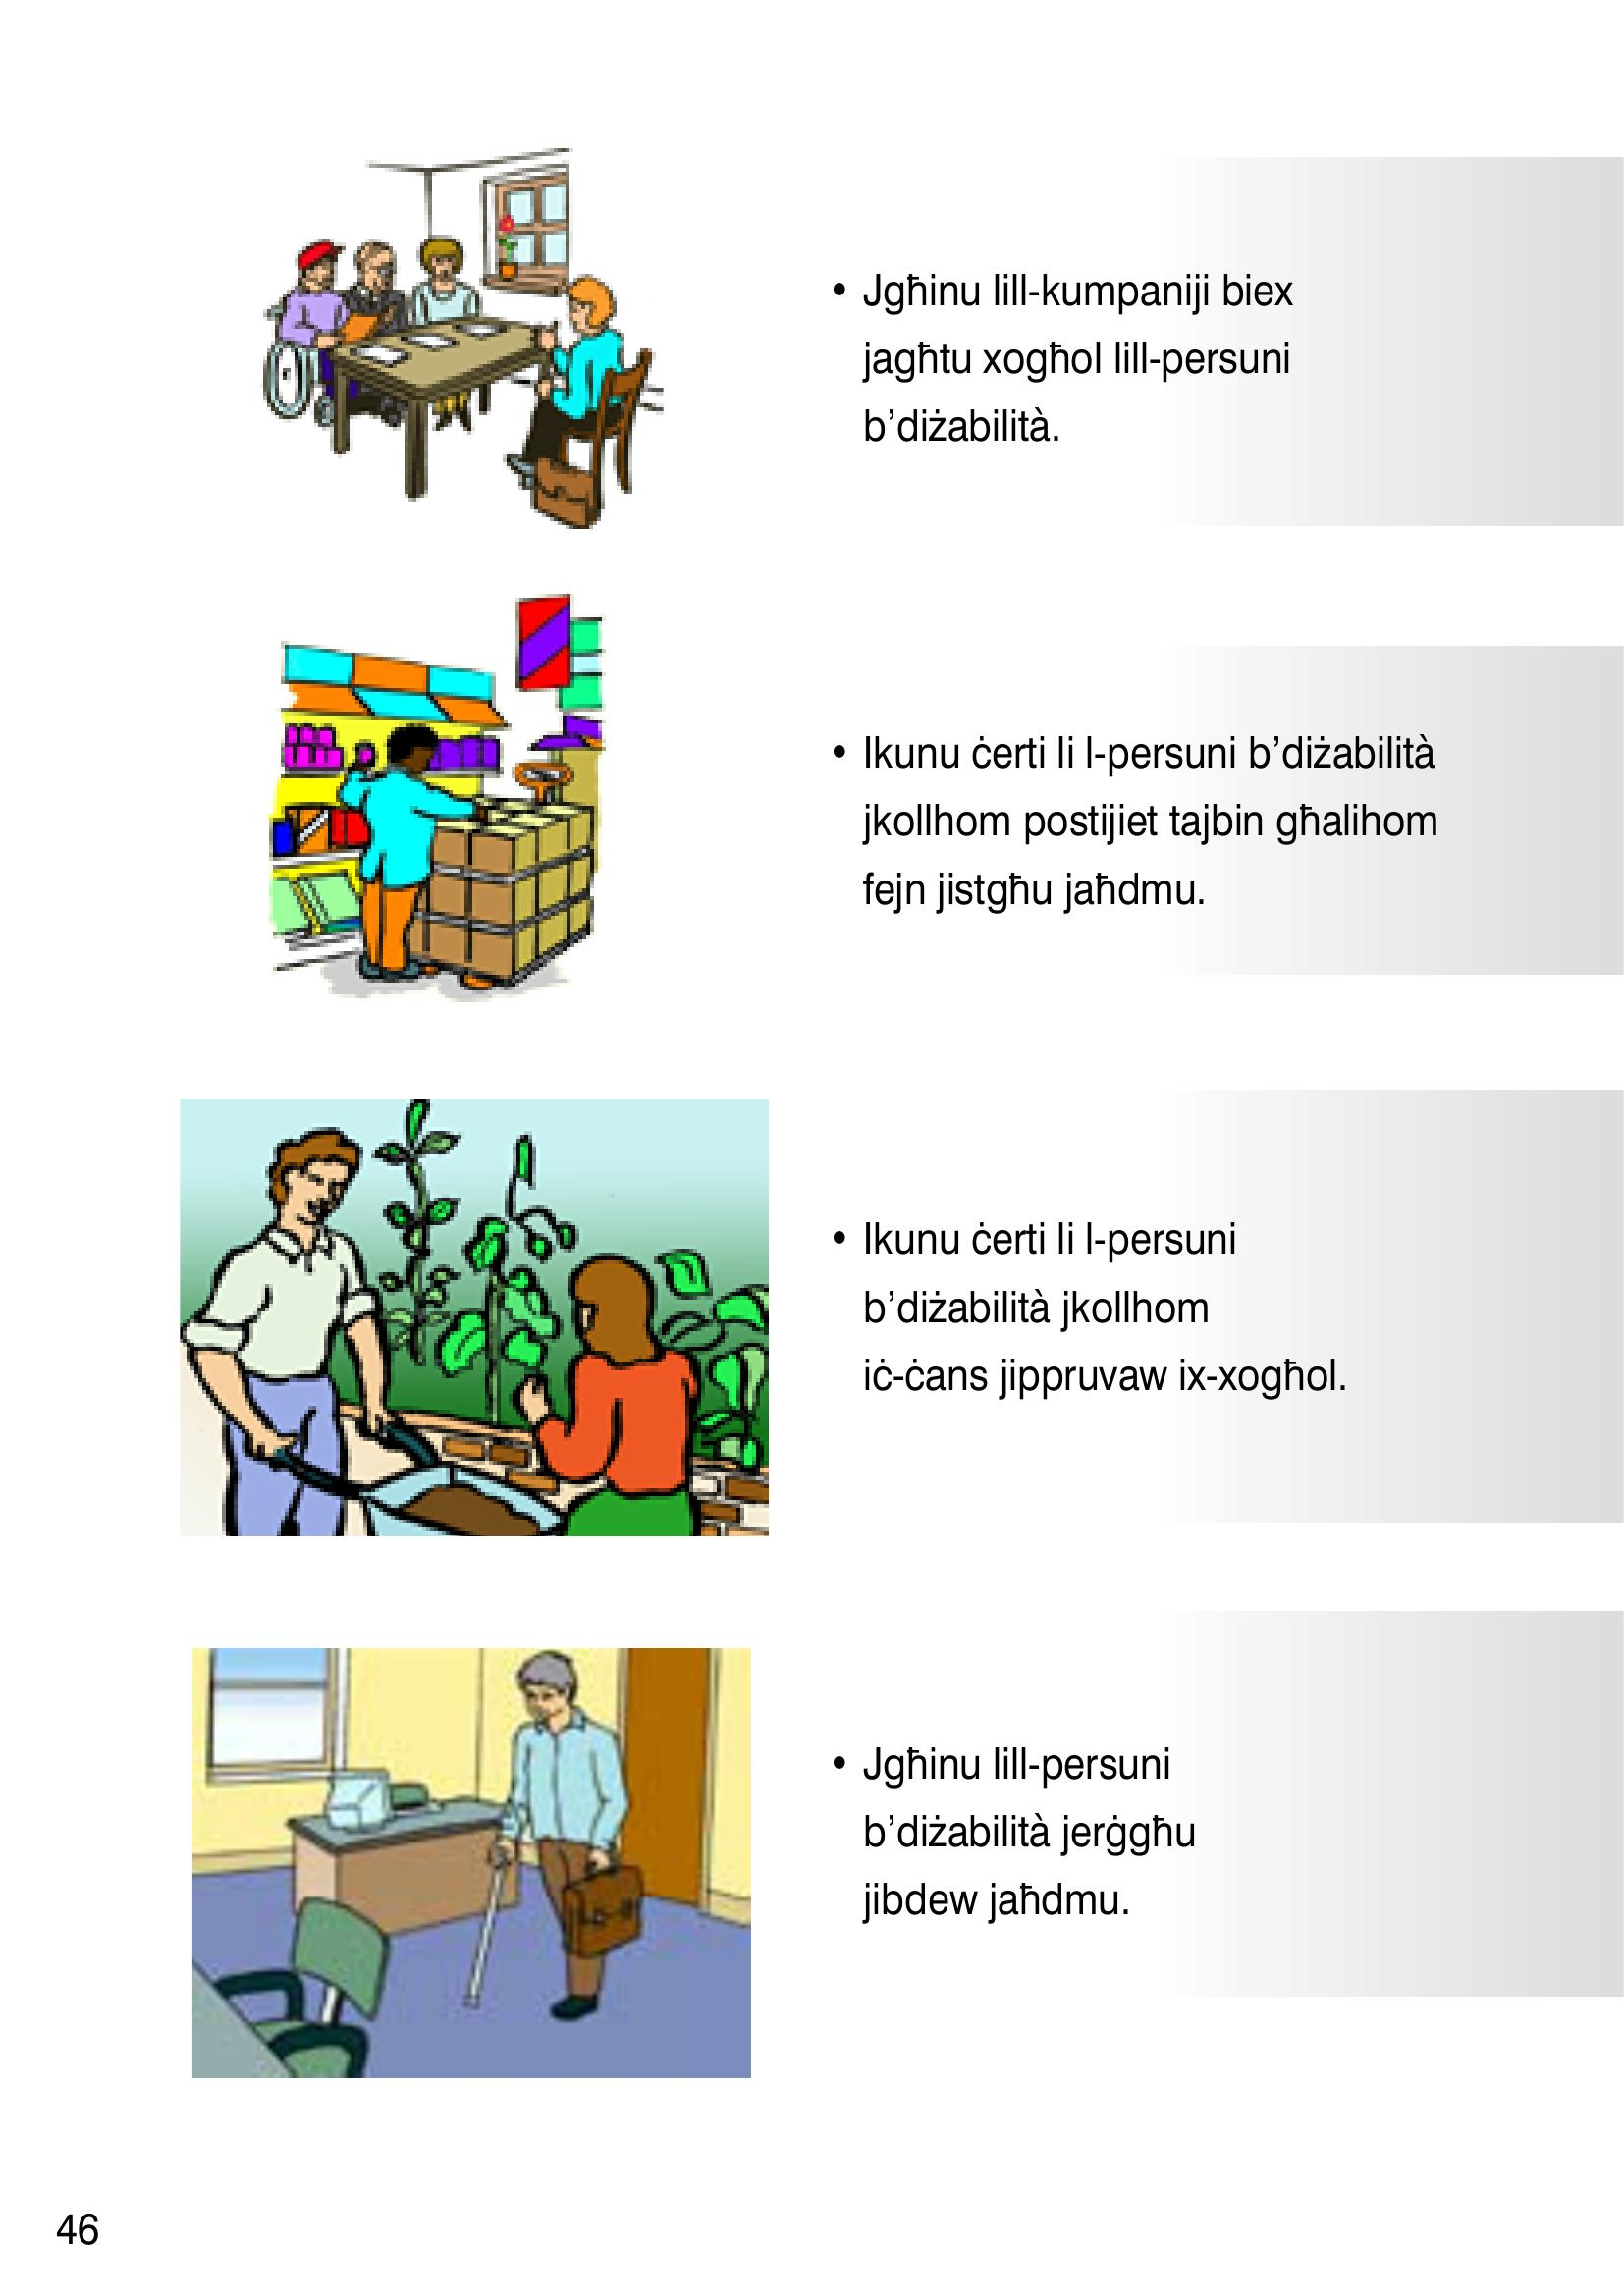text: (810, 230, 1469, 1967)
